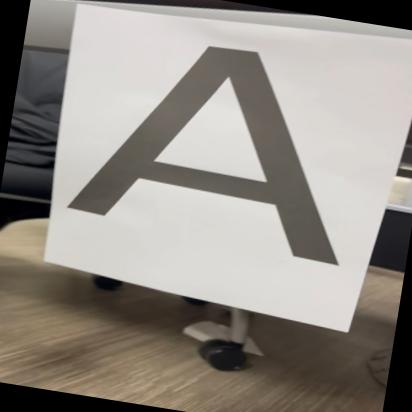seat: (64, 21, 372, 267)
